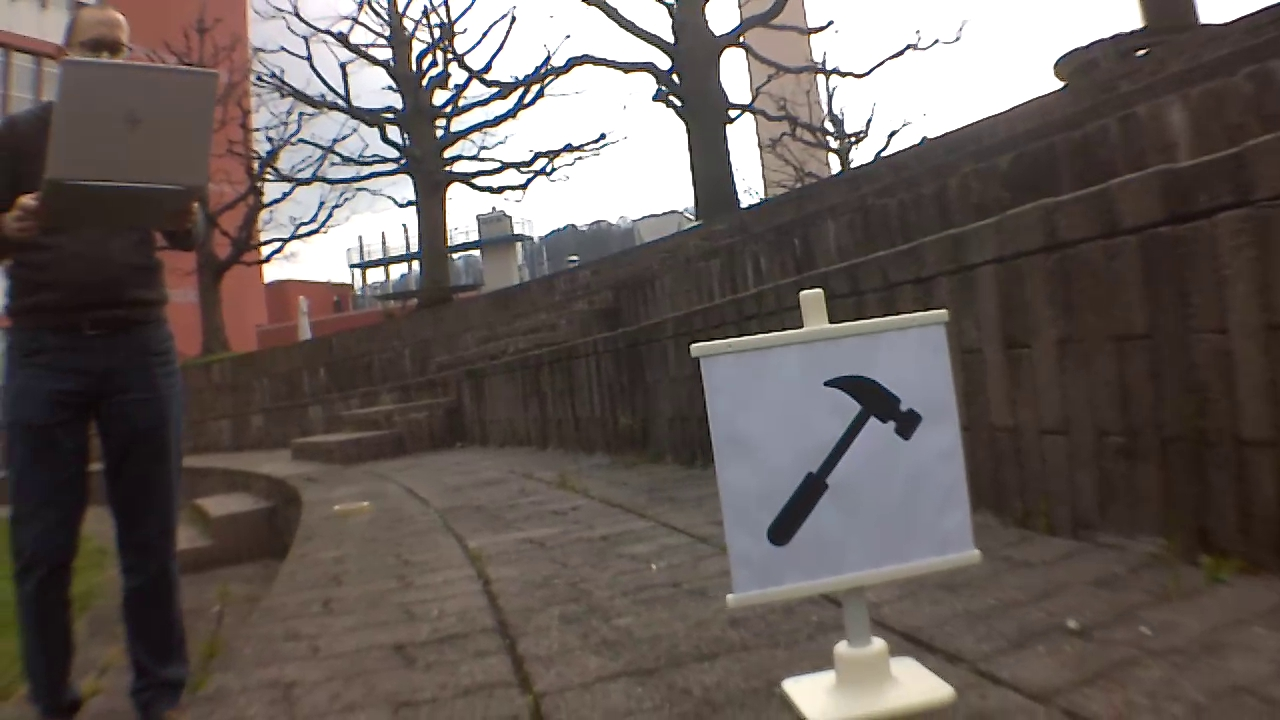hammer: (764, 362, 931, 549)
